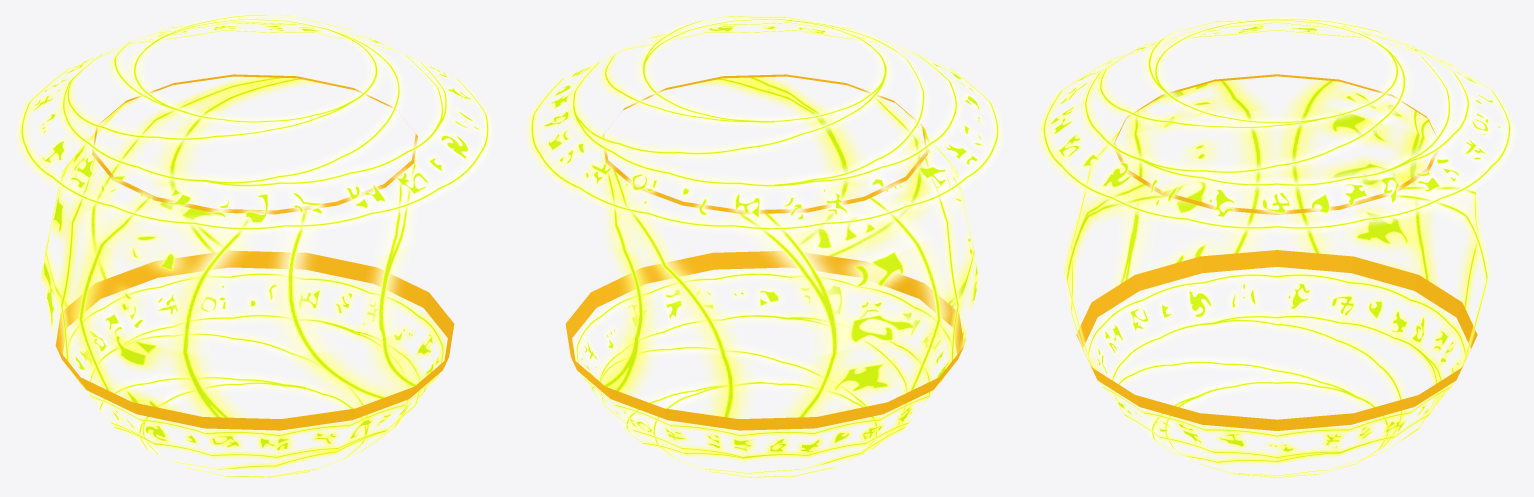
Rendered from Summon_ball.glb.
3 views of the same model, side by side, from view 1: azimuth 30°, elevation 25°; view 2: azimuth 150°, elevation 25°; view 3: azimuth 270°, elevation 25° (orthographic).
Visible parts, largest first — view 1: Summon_ball.001; view 2: Summon_ball.001; view 3: Summon_ball.001.
Boxes of the visible parts, x1=… form: Summon_ball.001: x1=16, y1=14, x2=493, y2=478; Summon_ball.001: x1=526, y1=15, x2=1003, y2=478; Summon_ball.001: x1=1038, y1=17, x2=1515, y2=478.
Size of the model in its own units: 2.25 by 2.12 by 2.25.
Materials: 2 (1 with a texture image).
